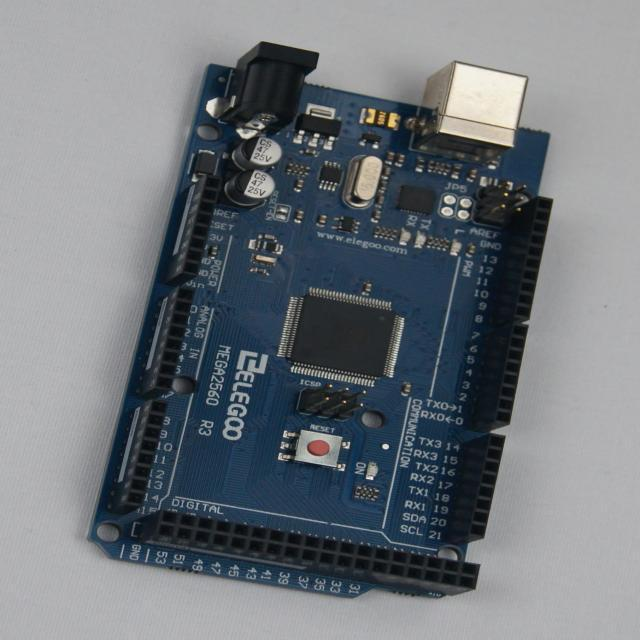Arduino Mega 2560 -Blue-: (91, 43, 552, 597)
